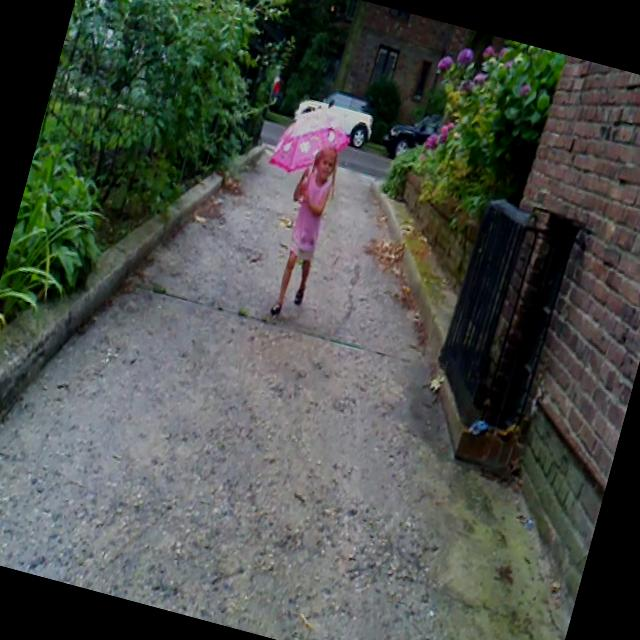Vehicle: (289, 80, 380, 150), (376, 106, 439, 163), (264, 64, 292, 108)
